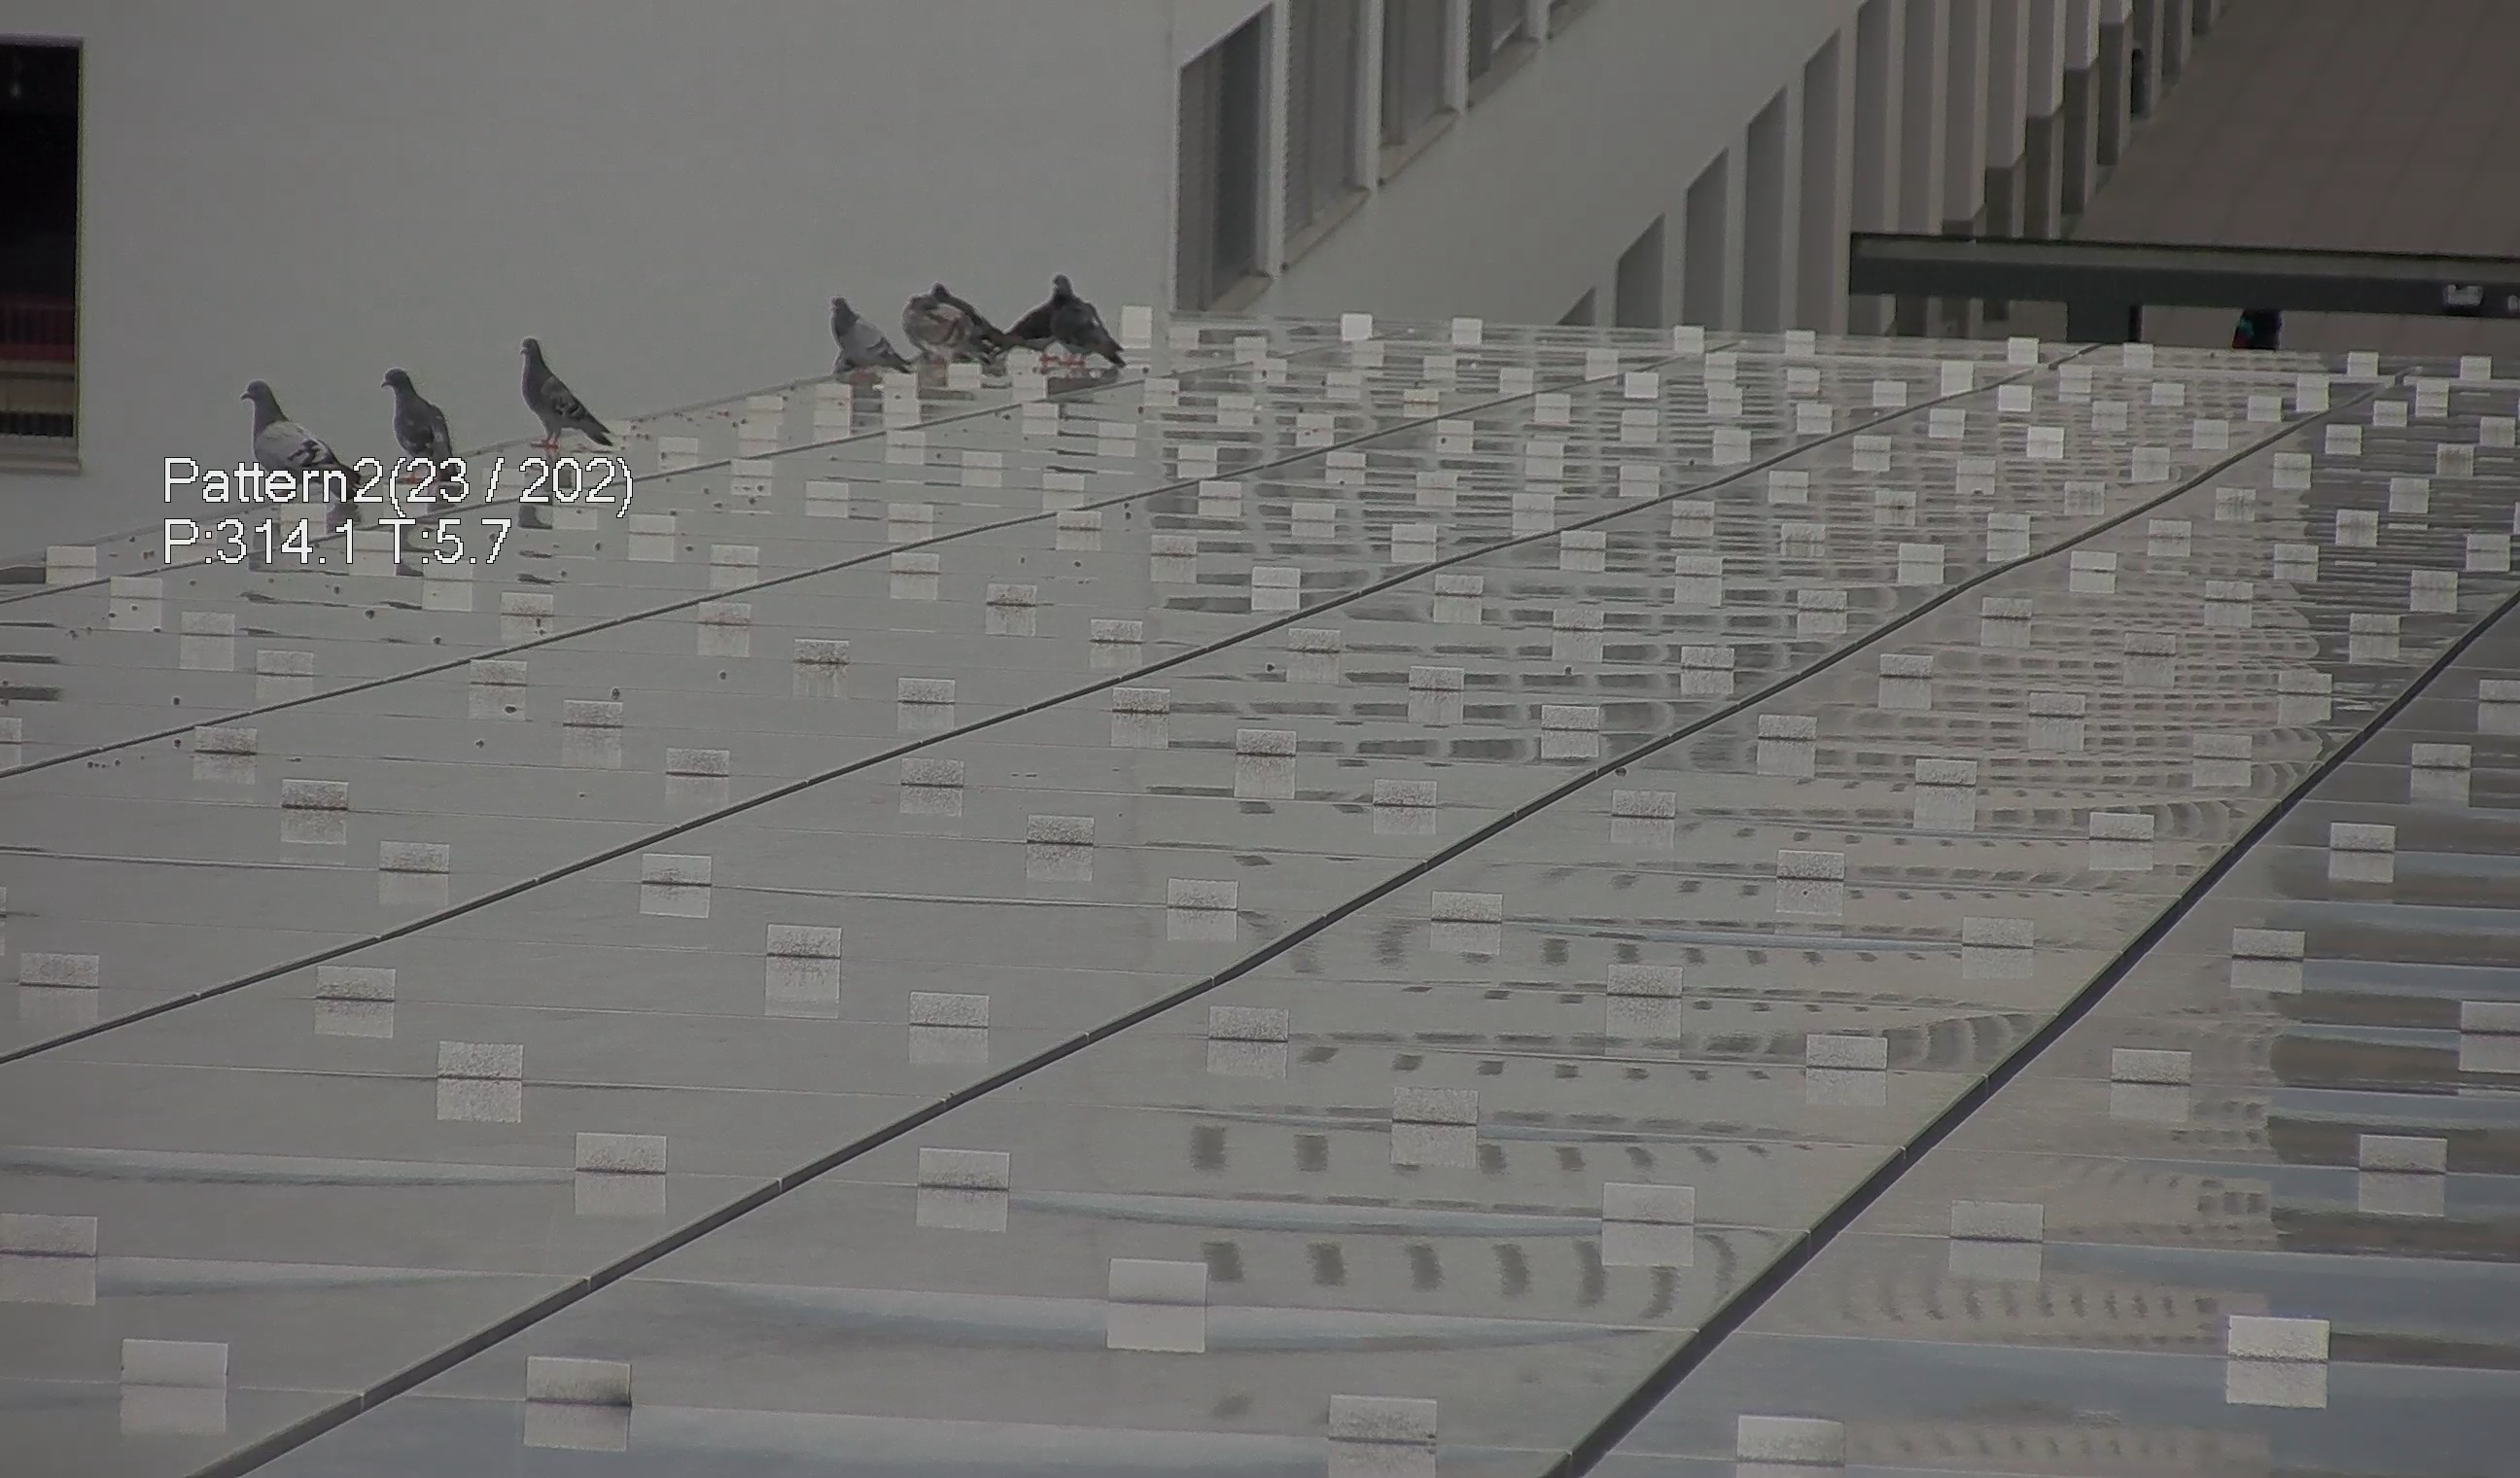Pigeon: (225, 361, 373, 496), (494, 327, 610, 463), (353, 354, 452, 479), (892, 271, 1018, 366), (1043, 262, 1117, 380), (807, 282, 895, 380), (995, 283, 1055, 371)
